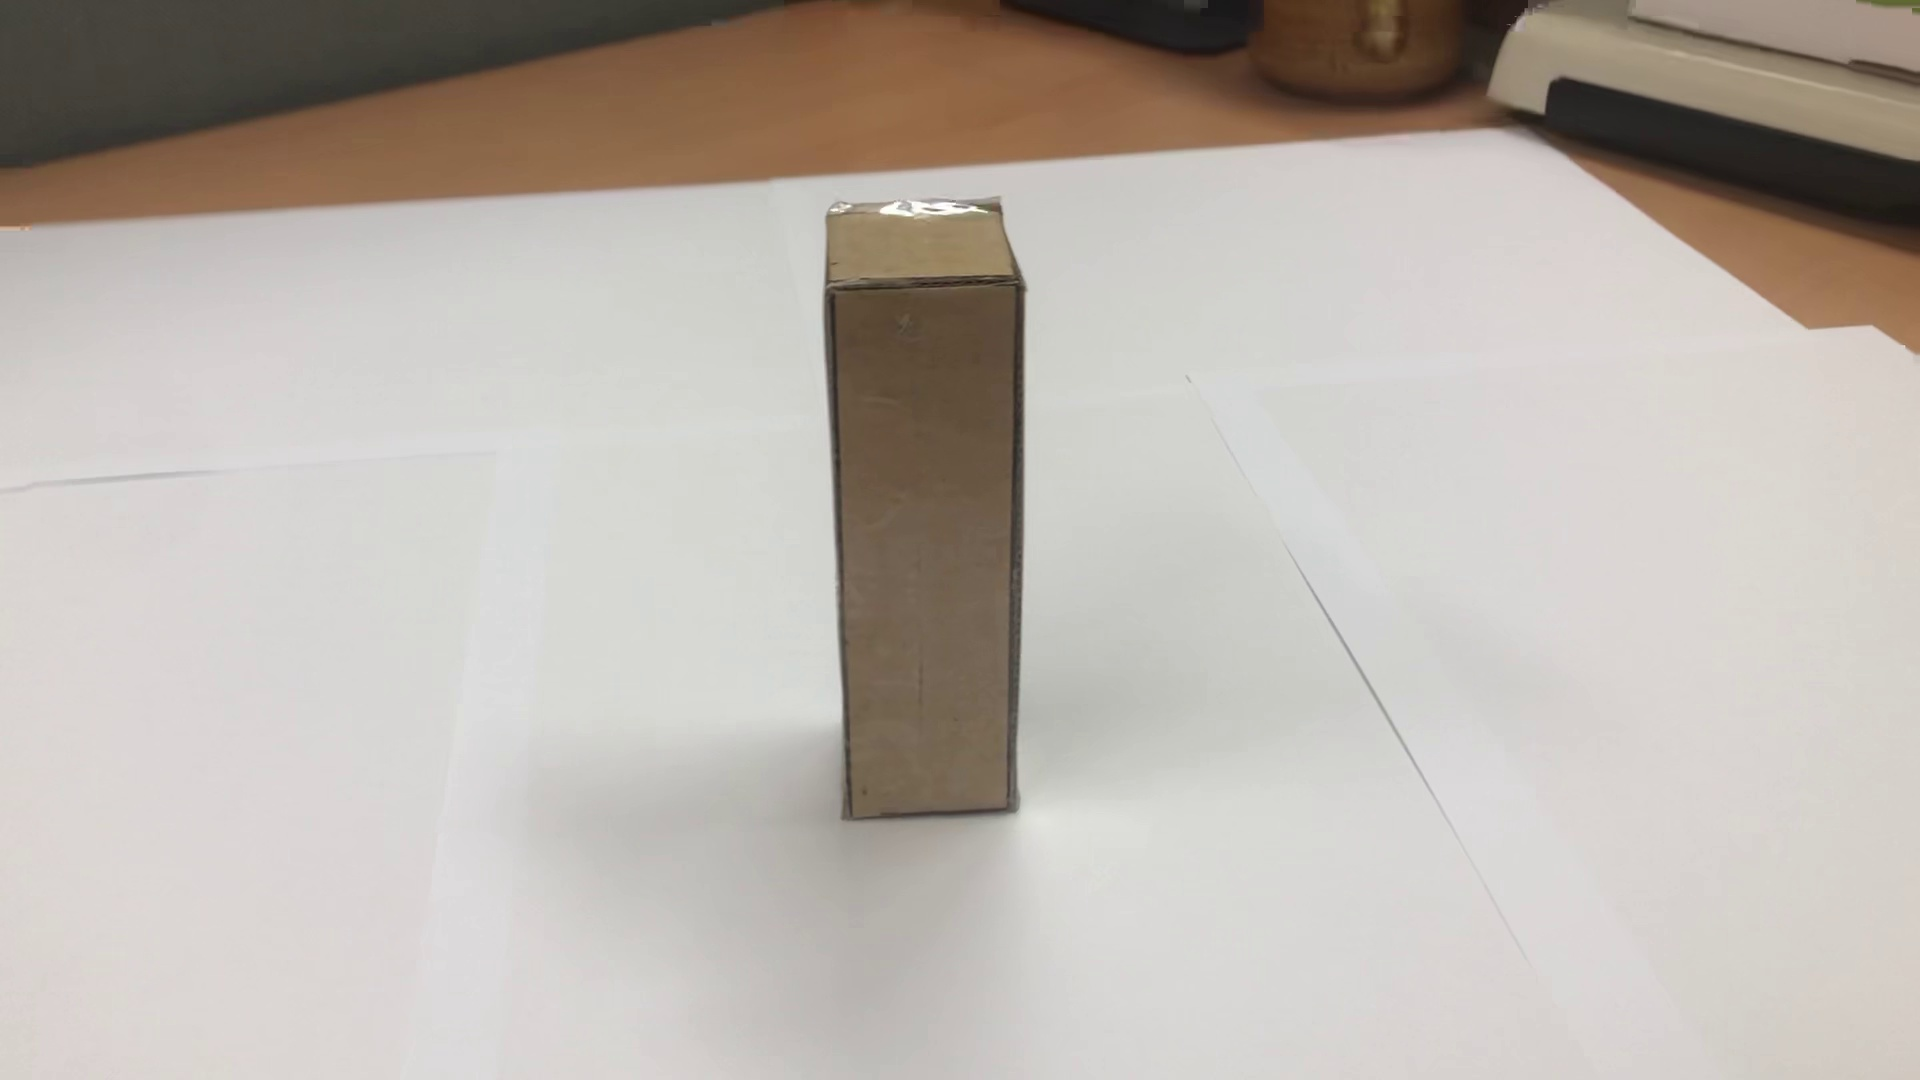box: (804, 173, 1059, 848)
